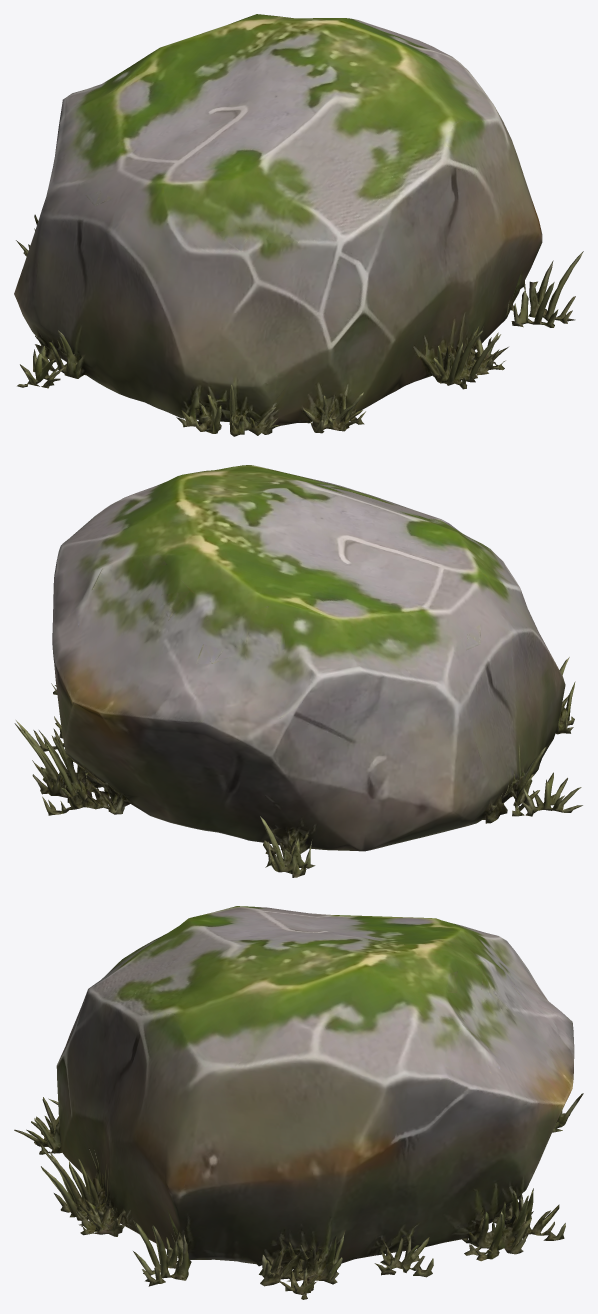
The model's file is rock_single.glb.
3 renders of one model, top to bottom at view 1: azimuth 30°, elevation 25°; view 2: azimuth 150°, elevation 25°; view 3: azimuth 270°, elevation 25°, orthographic. The views are drawn at different scales.
Parts seen in each view (by area): view 1: Mesh1.0; view 2: Mesh1.0; view 3: Mesh1.0.
Part boxes in pixels (box(x1,y1,x2,y2)): Mesh1.0: box(14, 14, 583, 436); Mesh1.0: box(14, 465, 582, 877); Mesh1.0: box(14, 906, 583, 1299).
Size of the model in its own units: 1.9 by 0.8785 by 1.76.
1 material, 1 textured.
